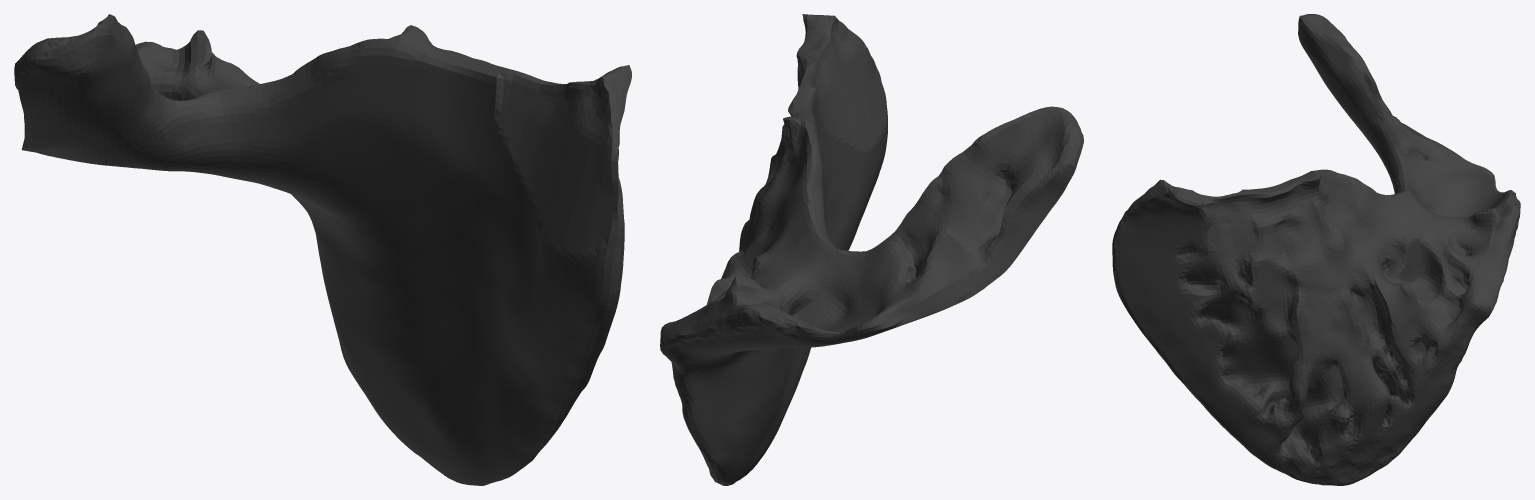
The model's file is canine_cardiac_trabeculae.glb.
3 views of the same model, side by side, from view 1: azimuth 30°, elevation 25°; view 2: azimuth 150°, elevation 25°; view 3: azimuth 270°, elevation 25° (orthographic). The views are drawn at different scales.
Visible parts, largest first — view 1: canine_cardiac_trabeculae; view 2: canine_cardiac_trabeculae; view 3: canine_cardiac_trabeculae.
Part boxes in pixels (box(x1,y1,x2,y2)): canine_cardiac_trabeculae: box(14, 14, 631, 485); canine_cardiac_trabeculae: box(660, 14, 1083, 485); canine_cardiac_trabeculae: box(1112, 14, 1520, 485).
Bounding box in the file's own units: 0.0538 × 0.0589 × 0.0626.
1 material, 1 textured.
